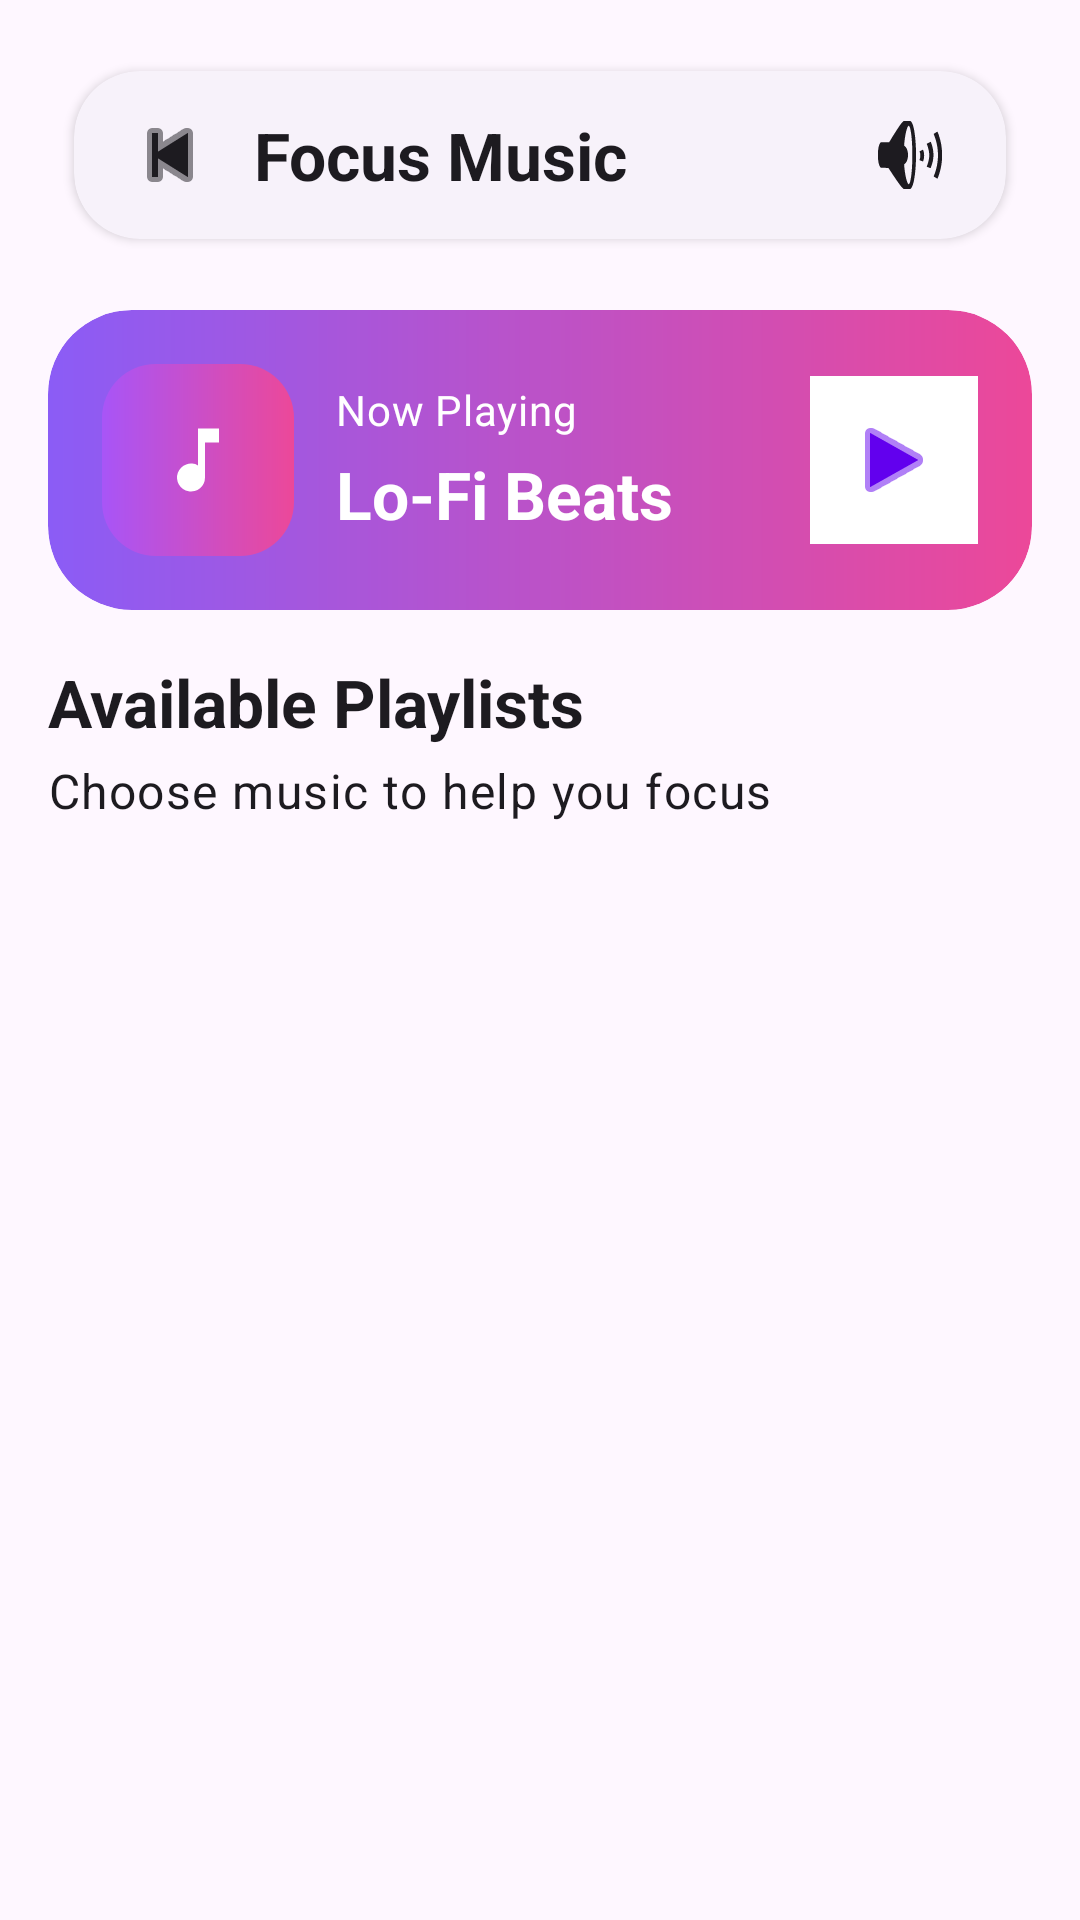

Locate icon controls on the screen. Image size 1080 x 1920, boxes as BBox(x1, y1, x2, y2).
Quay lai: BBox(147, 128, 193, 182)
Tat/bat am thanh: BBox(878, 121, 942, 189)
